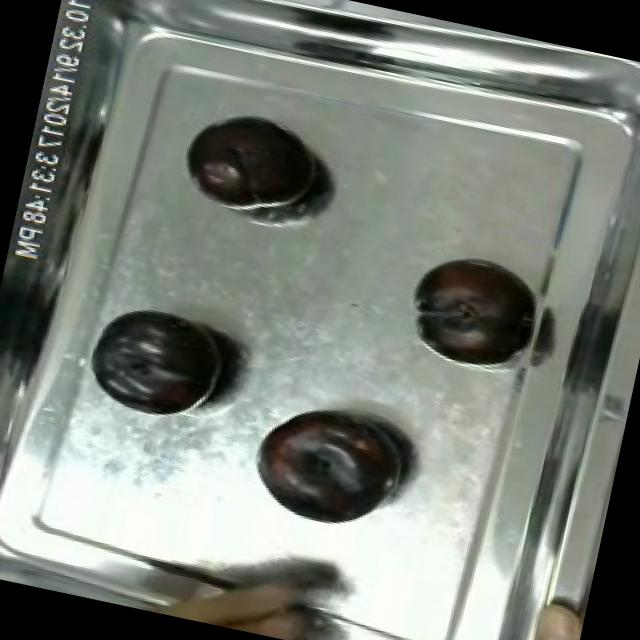Fruit: (239, 390, 420, 542), (75, 291, 246, 432), (176, 102, 332, 225), (398, 243, 544, 371), (520, 590, 587, 640)
